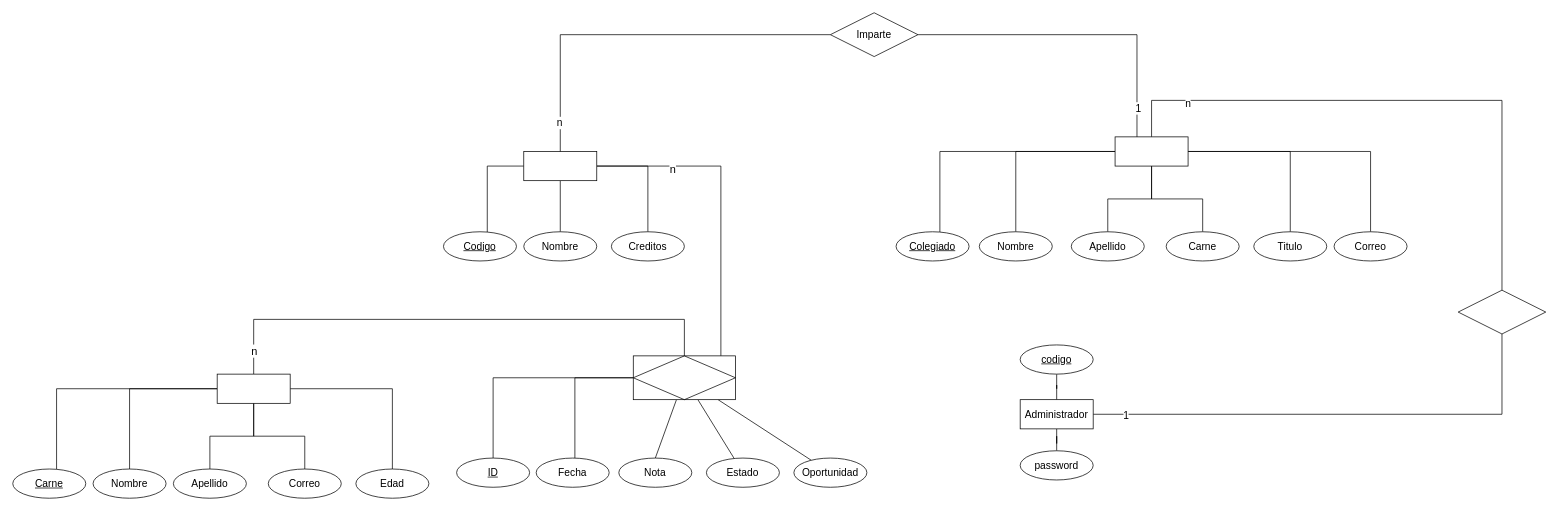
Image size: 1559x511. Some labels were removed from this diagram. The box of each missing label's shape, as (x1, y1, x2, y2) in pixels:
Asignacion: (633, 355, 735, 400)
Curso: (523, 151, 597, 181)
Estudiante: (216, 373, 290, 403)
Profesor: (1114, 136, 1188, 166)
Registra: (1457, 289, 1546, 334)
